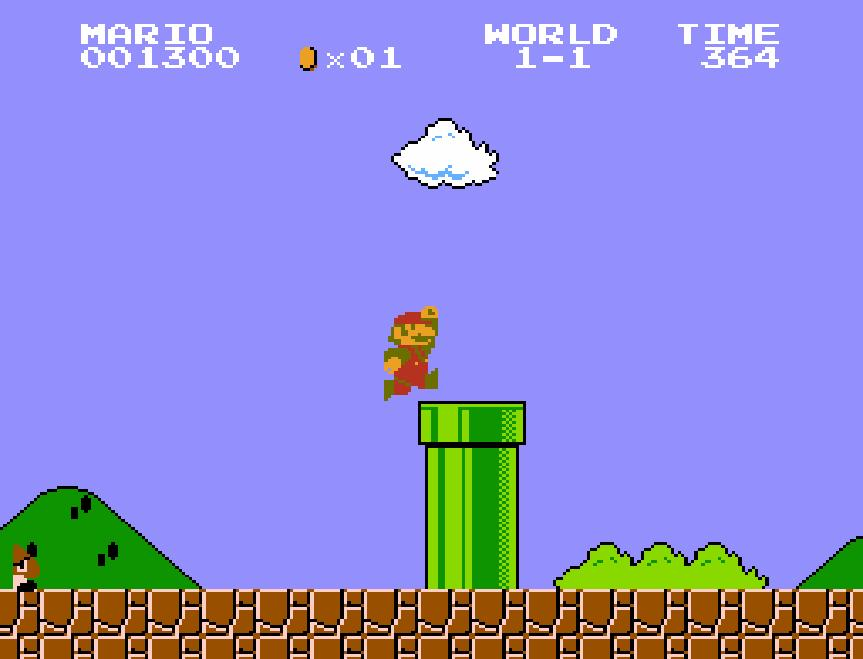big_mario: (382, 304, 440, 402)
